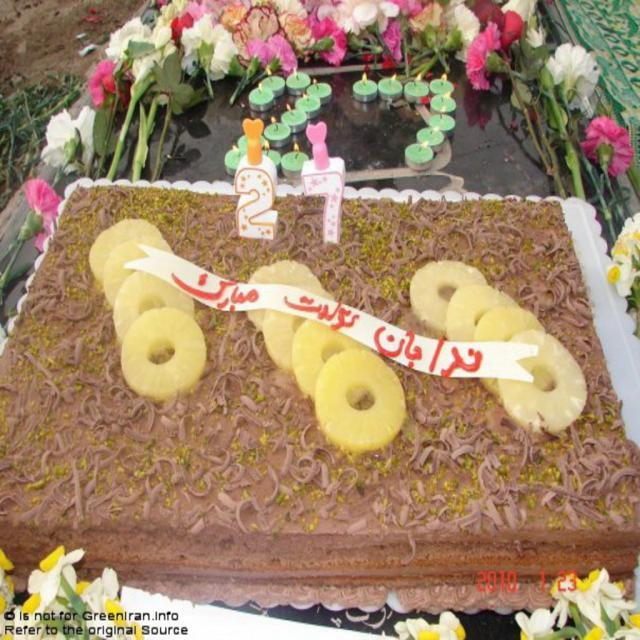Pineapple: (496, 329, 592, 431), (314, 353, 406, 457), (121, 307, 210, 396), (292, 312, 374, 407), (110, 268, 199, 342), (88, 216, 172, 287), (407, 259, 487, 331), (474, 310, 546, 389), (247, 259, 322, 334), (442, 280, 518, 348), (101, 240, 149, 306), (263, 305, 310, 366)
